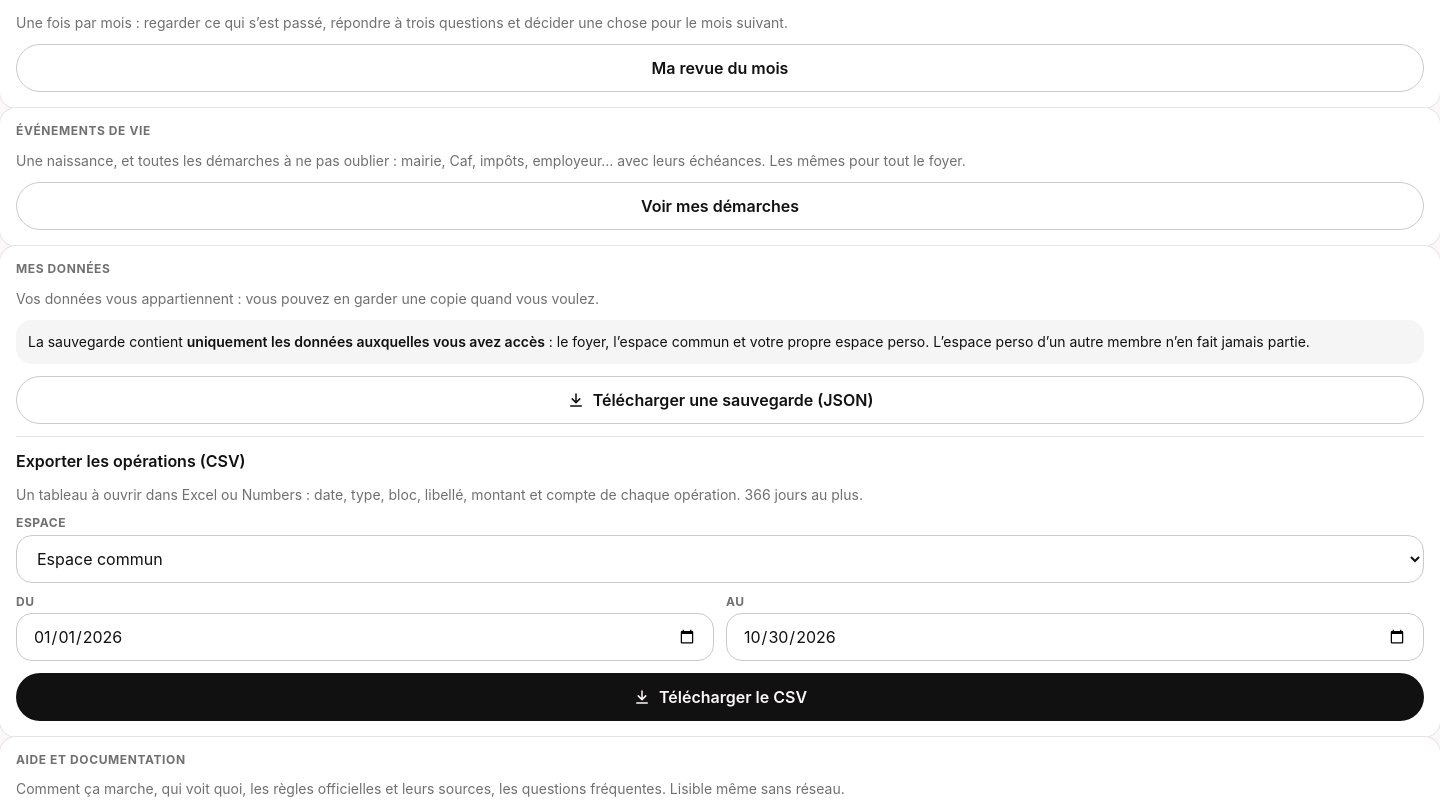
Test case: FoyerPage « Mes données » › JSON backup › downloads the backup, hands it to the browser and confirms with the file name
This screenshot has width=1440, height=804.
(page scrolled)
Click the button "Télécharger une sauvegarde (JSON)".
click(720, 400)  # box left=16, top=376, right=1424, bottom=424
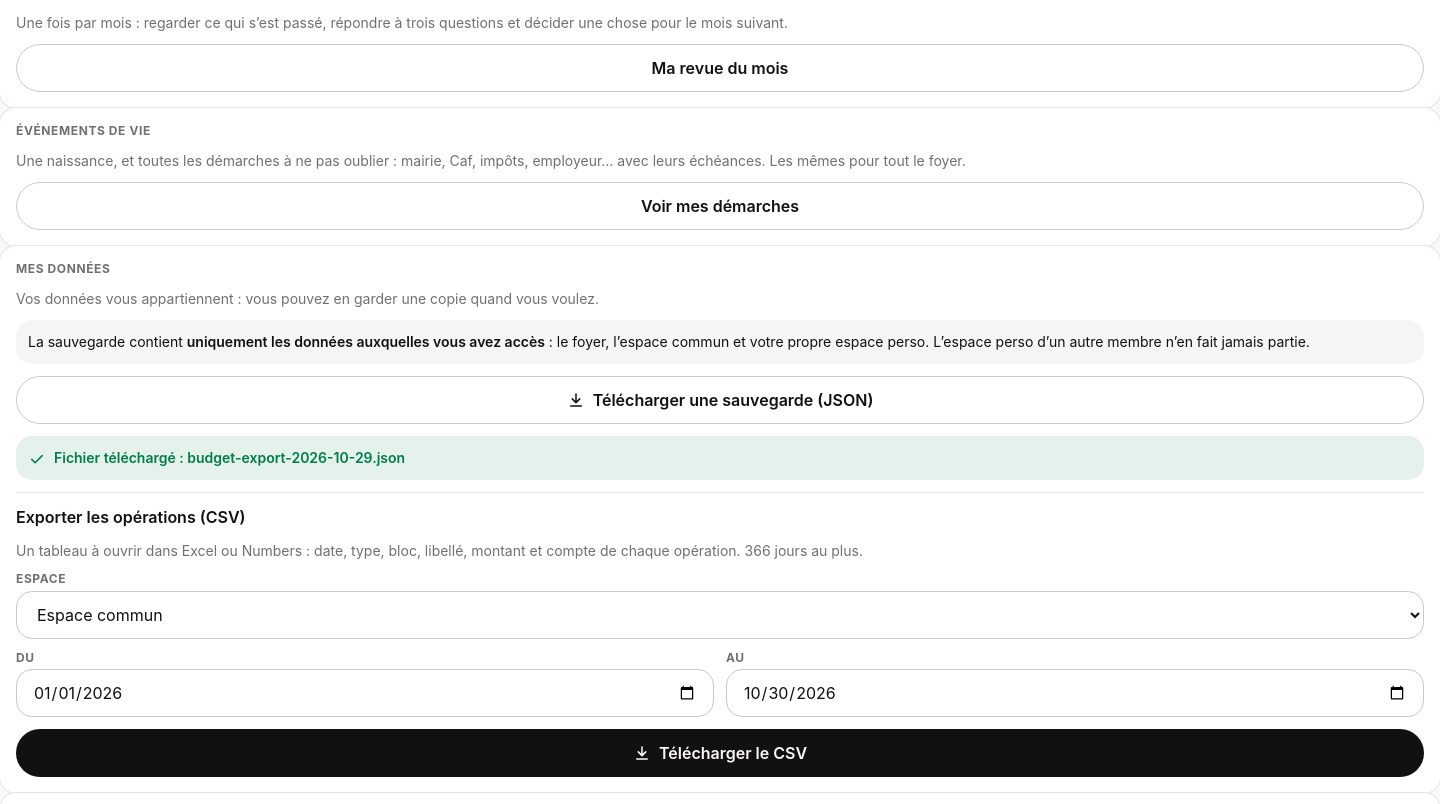
Result: the text "Fichier téléchargé : budget-export-2026-10-29.json" is shown at left=54, top=448, right=405, bottom=467
